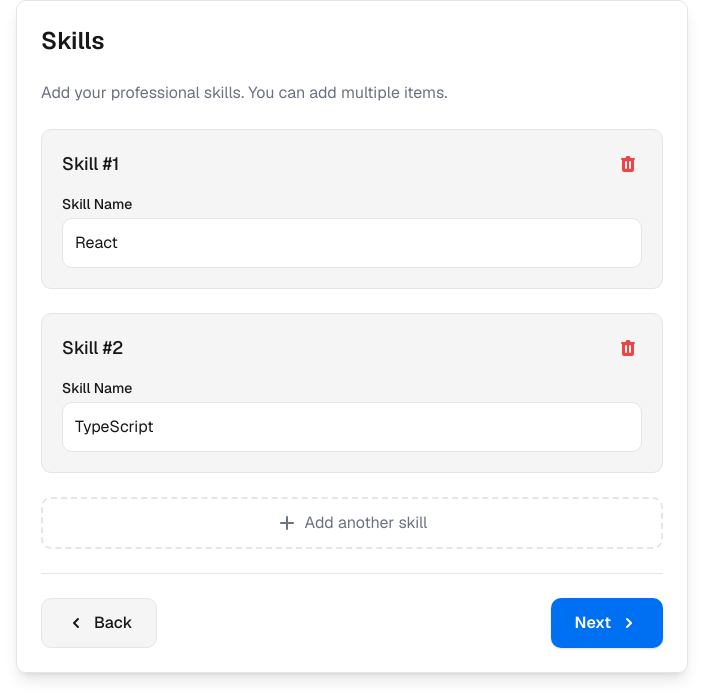
Test: AbilitiesForm Component › powinien usunąc pole po klinięciu przycisku 'Remove skill'
Expected: the number of fields is 2, [62,218,642,268]; [62,402,642,452]
Click the 1st button named "Remove skill". click: (628, 164)
box: [614,150,642,178]
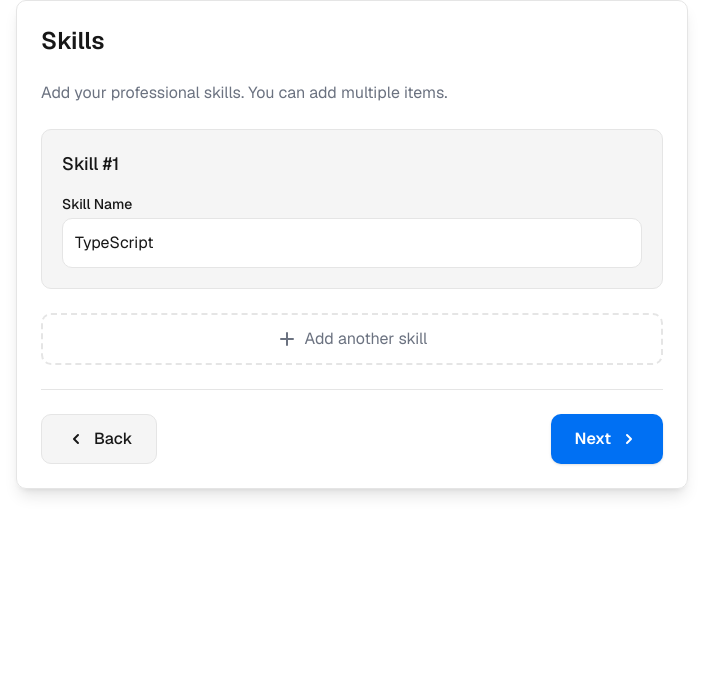
Expected: the number of fields is 1, [62,218,642,268]
Expected: the field holds "TypeScript", [62,218,642,268]
